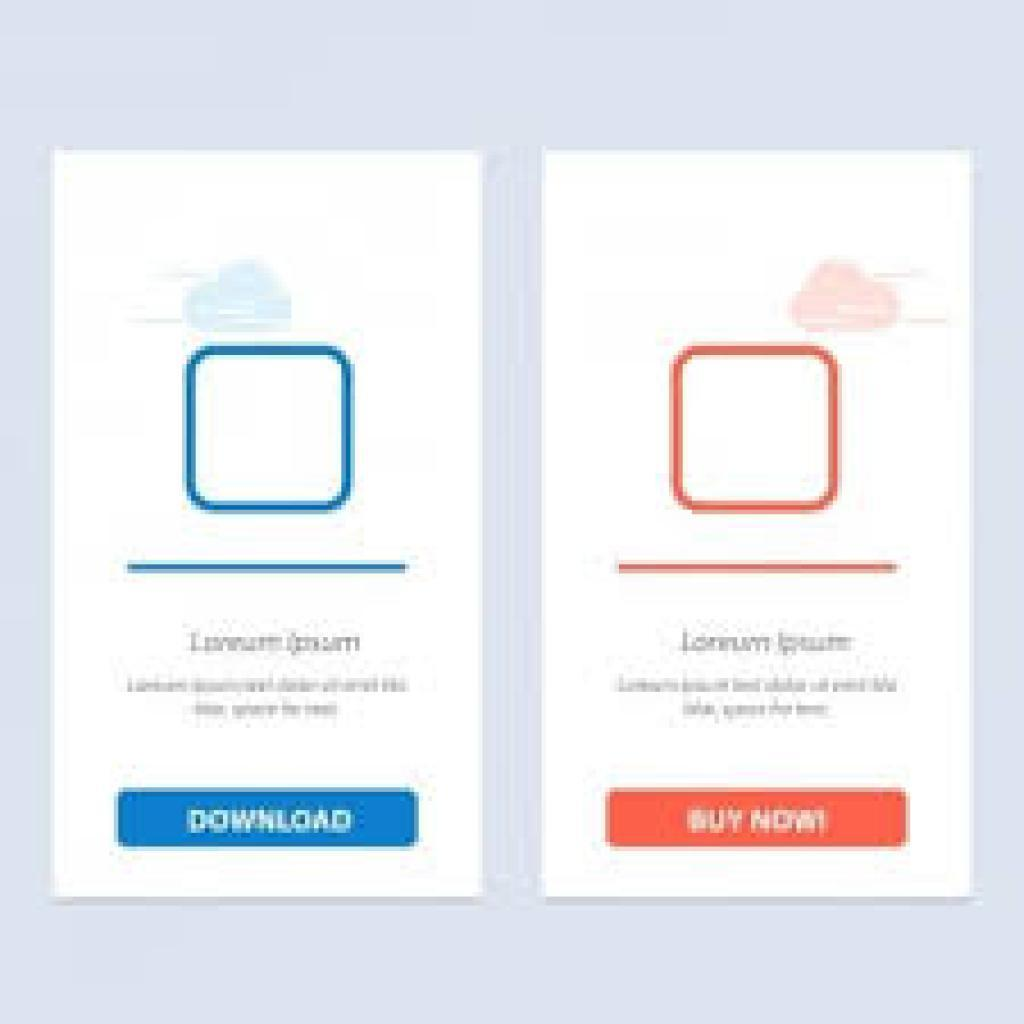button: (115, 789, 417, 850), (604, 789, 904, 847)
checkbox: (675, 347, 837, 510), (190, 350, 345, 502)
